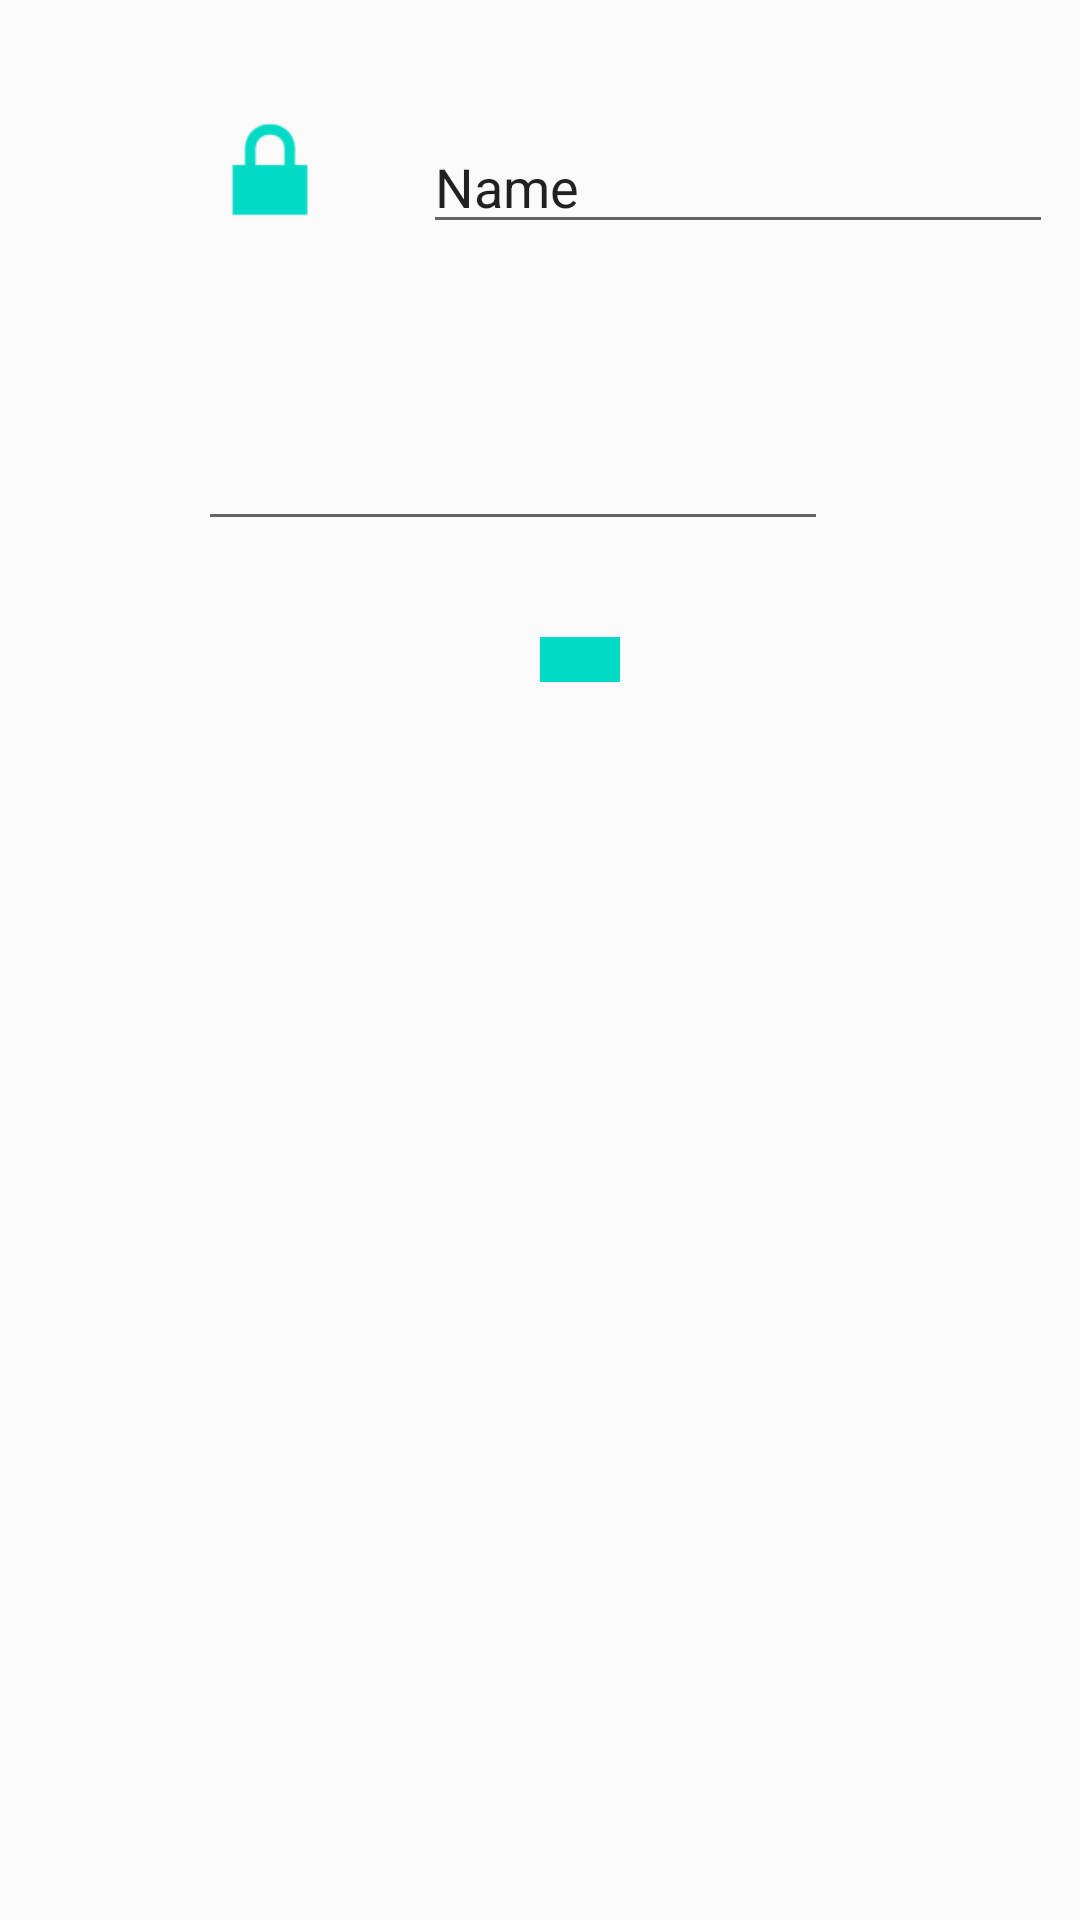

Named icons in this screenshot (1080w x 1920h) and their bounding boxes, rect(x1, y1, x2, y2):
lock: rect(232, 123, 308, 216)
